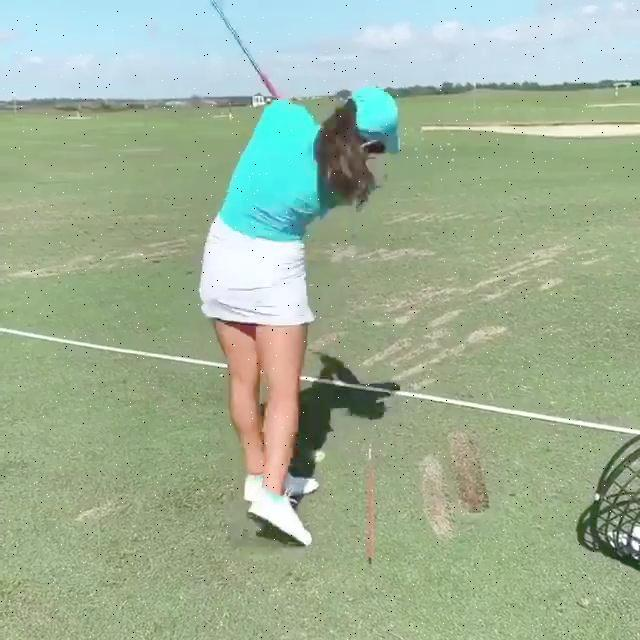golf ball: (627, 543, 640, 558), (607, 529, 619, 541), (617, 538, 626, 548), (632, 524, 640, 535)
golf club-handle: (212, 4, 283, 98)
